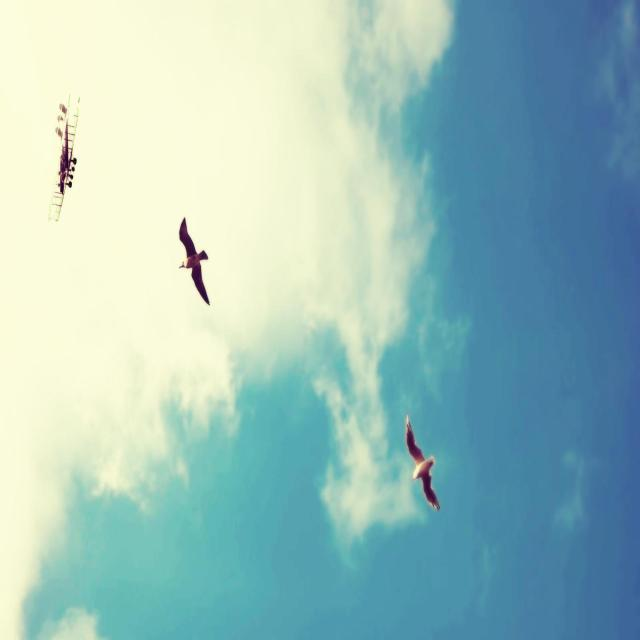airplane: (48, 92, 80, 222)
